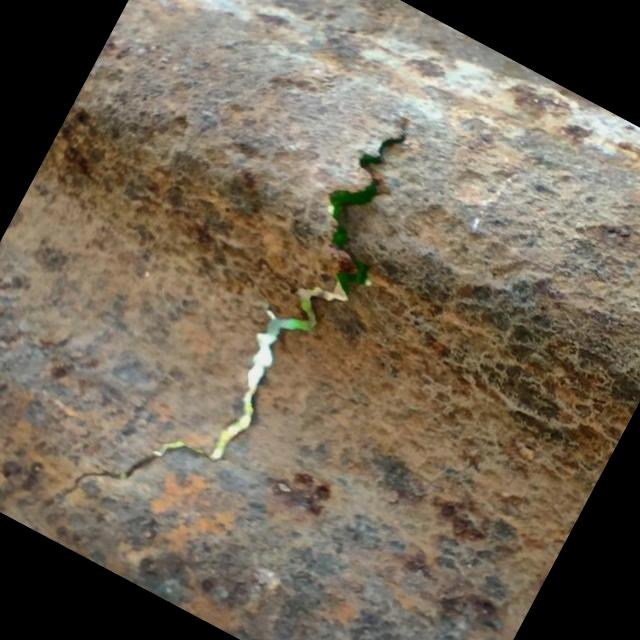defect: (41, 123, 410, 511)
